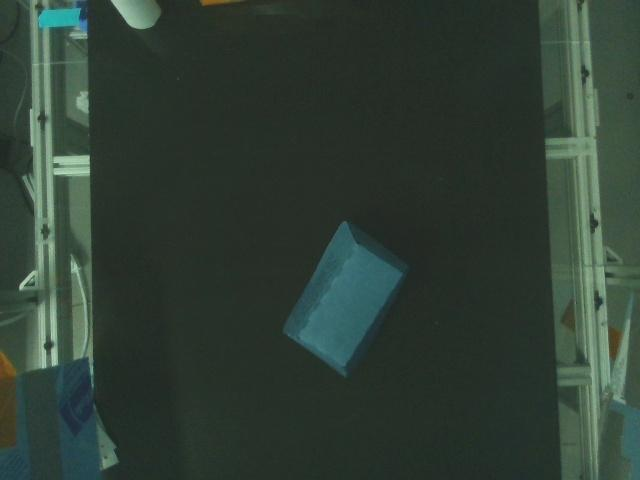cardboard: (281, 220, 413, 379), (108, 0, 163, 31), (194, 0, 254, 9)
